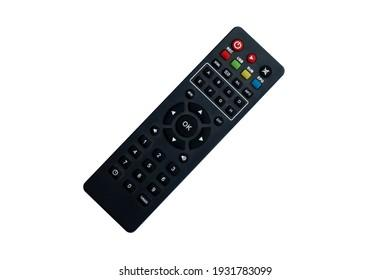Remote control: (83, 26, 286, 234)
